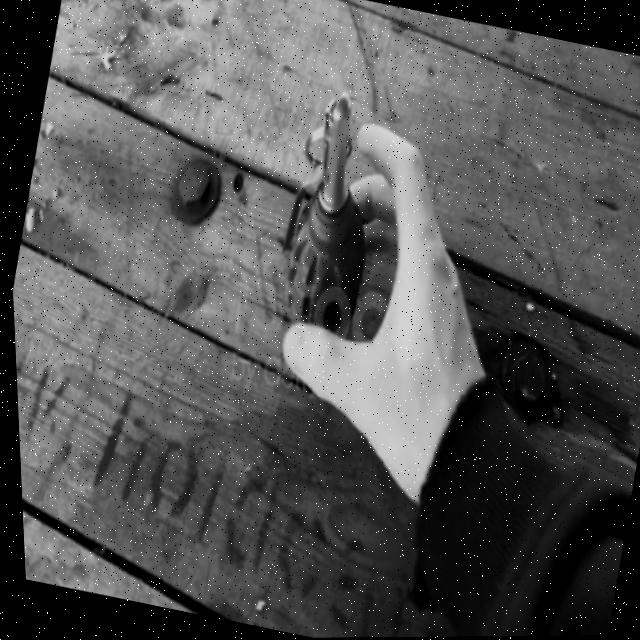grenade: (242, 84, 408, 370)
